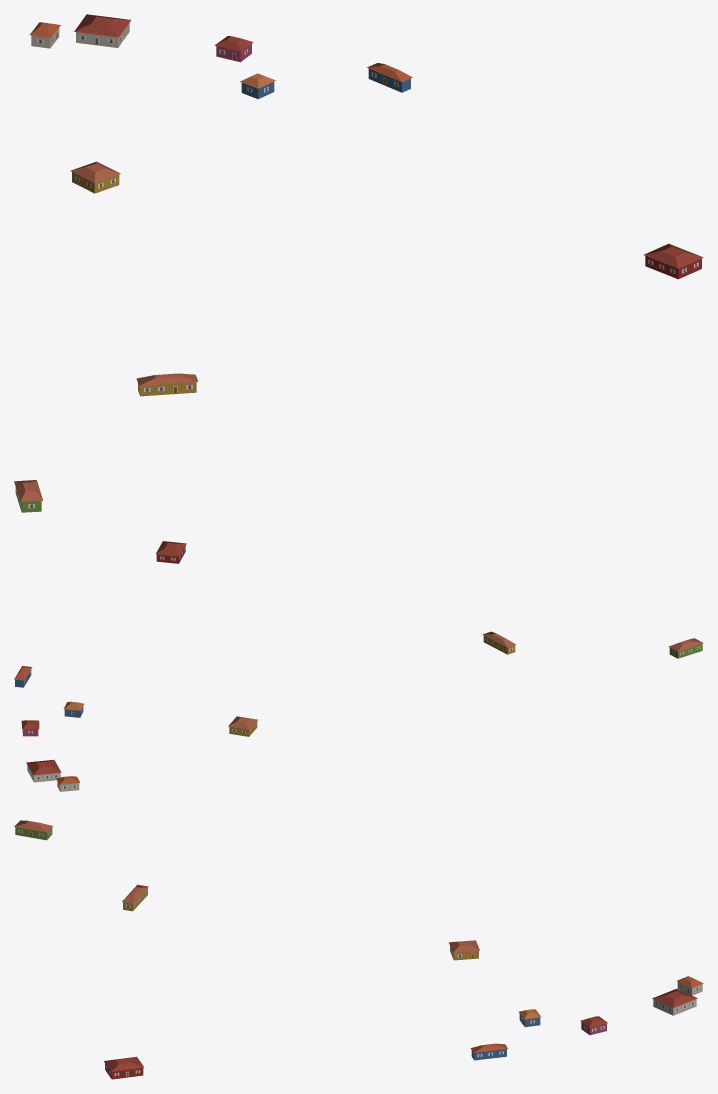
Rendered from msb_oranjestad_m12_2.glb.
3 views of the same model, one above another, from view 1: azimuth 30°, elevation 25°; view 2: azimuth 150°, elevation 25°; view 3: azimuth 270°, elevation 25° (orthographic). The views are drawn at different scales.
Visible parts, largest first — view 1: msb_oranjestad_m12_2_lod0; view 2: msb_oranjestad_m12_2_lod0; view 3: msb_oranjestad_m12_2_lod0.
Boxes of the visible parts, left/top/right/bottom form: msb_oranjestad_m12_2_lod0: left=14, top=14, right=703, bottom=512; msb_oranjestad_m12_2_lod0: left=14, top=541, right=703, bottom=791; msb_oranjestad_m12_2_lod0: left=14, top=820, right=703, bottom=1079.
Size of what is drawn, in the model's own units: 242 by 12.09 by 268.
2 materials, 1 textured.
